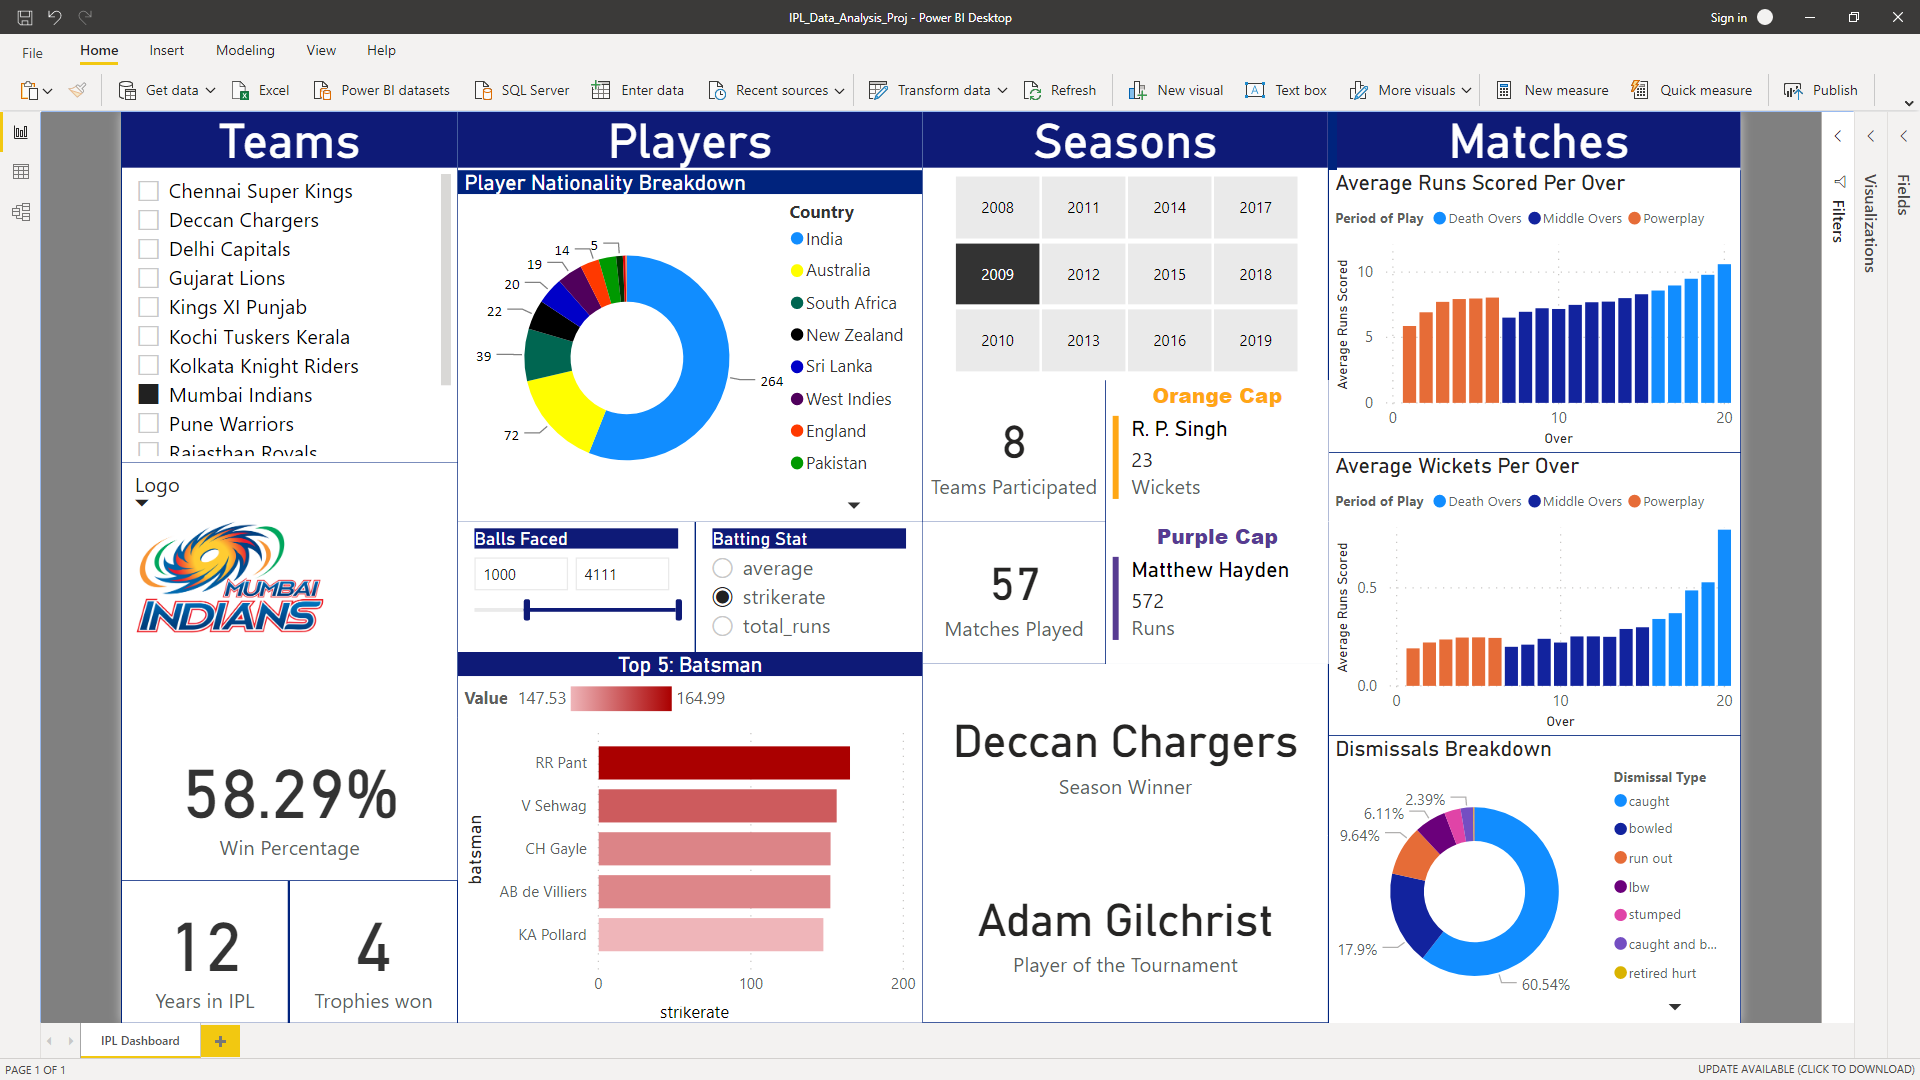

What the dashboard file says about the page in this screenshot:
{"tool":"powerbi","page":{"name":"IPL Dashboard","canvas":[1280,720],"ordinal":0},"visuals":[{"type":"card","fields":{"Values":["team_stats.Trophies"]},"box":[133.3,607.6,132.3,112.4],"z":0},{"type":"slicer","title":"Teams","fields":{"Values":["team_stats.Team"]},"box":[1,0,264.6,277.5],"z":1000},{"type":"pivotTable","fields":{"Rows":["team_logos.Image"]},"box":[1,277.5,264.6,200.9],"z":2000},{"type":"card","fields":{"Values":["team_stats.Win Percentage"]},"box":[1,478.4,264.6,129.3],"z":3000},{"type":"card","fields":{"Values":["team_stats.Years Participating"]},"box":[1,607.7,131.3,112.4],"z":4000},{"type":"donutChart","title":"Player Nationality Breakdown","fields":{"Category":["Country_Count.Column1"],"Y":["Country_Count.No. of Players"]},"box":[266.5,45.7,367,278.5],"z":5000},{"type":"slicer","fields":{"Values":["most_runs_average_strikerate.Attribute"]},"box":[454.4,324,179.4,102.7],"z":6000},{"type":"slicer","fields":{"Values":["most_runs_average_strikerate.numberofballs"]},"box":[266.3,324,187.3,102.7],"z":7000},{"type":"barChart","title":"Top 5: Batsman","fields":{"Category":["most_runs_average_strikerate.batsman"],"Y":["most_runs_average_strikerate.Value"]},"box":[266.5,426.7,367,293.4],"z":8000},{"type":"card","fields":{"Values":["most_runs_average_strikerate.Attribute"]},"box":[386.9,697.2,132.3,21.9],"z":9000},{"type":"slicer","title":"Seasons","fields":{"Values":["Season_Stats.season"]},"box":[633.9,0,320.1,211.8],"z":10000},{"type":"card","fields":{"Values":["Season_Stats.num_matches"]},"box":[633.9,324,143.8,112.2],"z":10002},{"type":"card","fields":{"Values":["Season_Stats.num_teams"]},"box":[633.9,211.8,143.8,112.2],"z":10003},{"type":"card","fields":{"Values":["Season_Stats.winner"]},"box":[633.9,436.3,320.1,135.9],"z":10004},{"type":"multiRowCard","title":"Purple Cap","fields":{"Values":["orange_cap.Player","orange_cap.Runs"]},"box":[778.7,323.2,176,113.4],"z":10005},{"type":"multiRowCard","title":"Orange Cap","fields":{"Values":["purple_cap.Player","purple_cap.Wickets"]},"box":[778.7,211.8,176,112.4],"z":10006},{"type":"card","title":"Player of the season","fields":{"Values":["player_of_season.Player"]},"box":[633.9,571.4,320.1,147.8],"z":10007},{"type":"textbox","title":"Players","box":[266.5,0,367,45.7],"z":10008},{"type":"textbox","title":"Matches","box":[960.7,0,319.3,45.7],"z":10009},{"type":"columnChart","title":"Average Runs Scored Per Over","fields":{"Category":["over_stats.over"],"Series":["over_stats.Period"],"Y":["over_stats.Runs"]},"box":[954.7,45.8,324.8,222.9],"z":10011},{"type":"columnChart","title":"Average Wickets Per Over","fields":{"Category":["over_stats.over"],"Series":["over_stats.Period"],"Y":["over_stats.Wickets"]},"box":[954.7,269.5,324.8,222.9],"z":10012},{"type":"donutChart","title":"Dismissals Breakdown","fields":{"Y":["dismissals.Number of Dismissals"],"Category":["dismissals.Dismissal Type"]},"box":[954.7,493.2,324.8,226.8],"z":10013}]}

Visuals, with their boxes on the page's 1280x720 design canvas (x1, y1, x2, y2). These are canvas units, not pixel positions in the 1920x1080 screenshot, which may show the page scaled, cropped or inside an application window:
card - team_stats.Trophies: 133/608/266/720
"Teams" slicer: 1/0/266/278
pivotTable - team_logos.Image: 1/278/266/478
card - team_stats.Win Percentage: 1/478/266/608
card - team_stats.Years Participating: 1/608/132/720
"Player Nationality Breakdown" donutChart: 266/46/634/324
slicer - most_runs_average_strikerate.Attribute: 454/324/634/427
slicer - most_runs_average_strikerate.numberofballs: 266/324/454/427
"Top 5: Batsman" barChart: 266/427/634/720
card - most_runs_average_strikerate.Attribute: 387/697/519/719
"Seasons" slicer: 634/0/954/212
card - Season_Stats.num_matches: 634/324/778/436
card - Season_Stats.num_teams: 634/212/778/324
card - Season_Stats.winner: 634/436/954/572
"Purple Cap" multiRowCard: 779/323/955/437
"Orange Cap" multiRowCard: 779/212/955/324
"Player of the season" card: 634/571/954/719
"Players" textbox: 266/0/634/46
"Matches" textbox: 961/0/1280/46
"Average Runs Scored Per Over" columnChart: 955/46/1280/269
"Average Wickets Per Over" columnChart: 955/270/1280/492
"Dismissals Breakdown" donutChart: 955/493/1280/720
